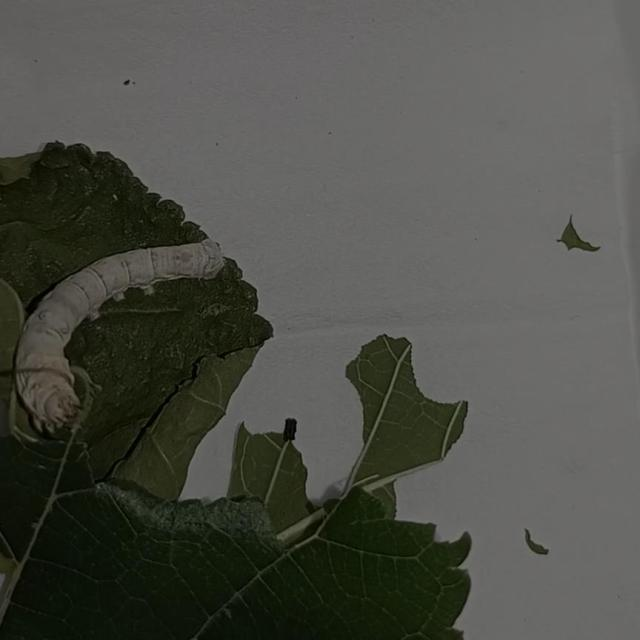Healthy: (0, 184, 269, 461)
